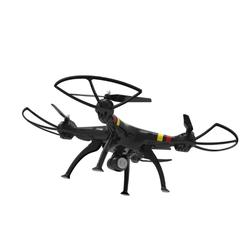drone: (20, 74, 240, 197)
